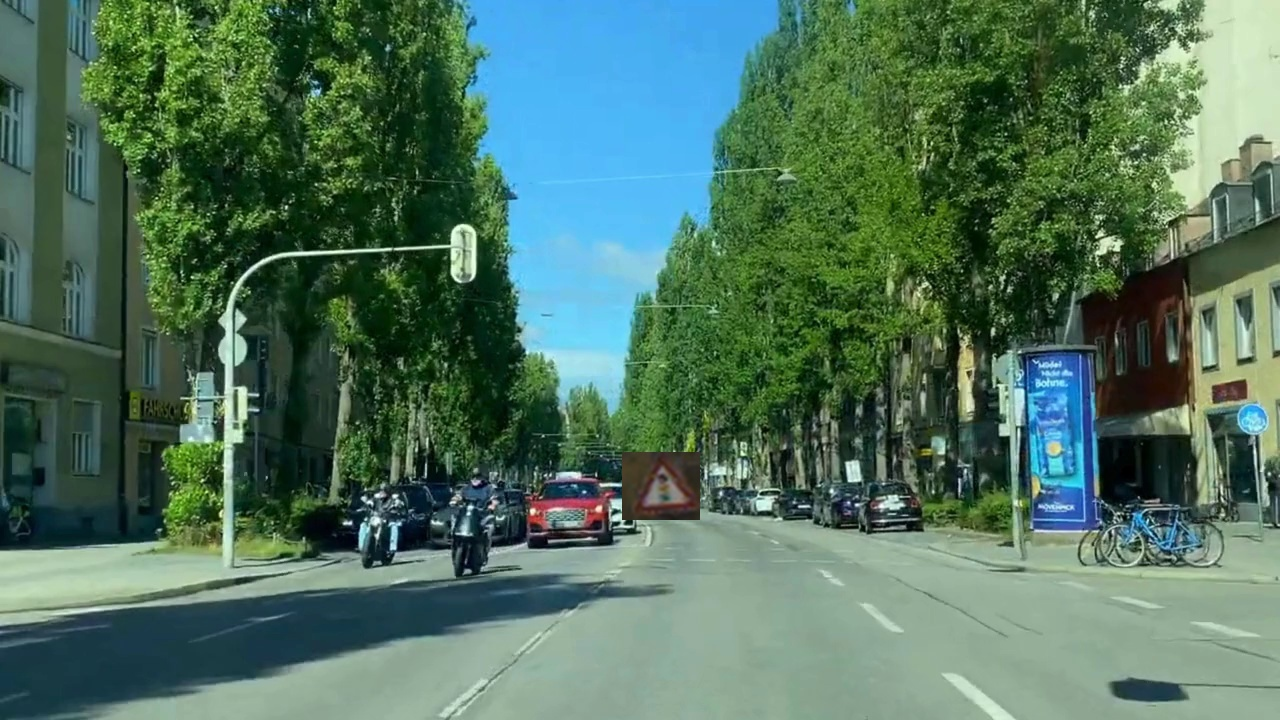Signals: (622, 452, 700, 520)
